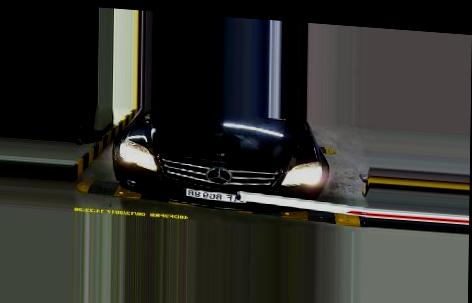License_Plate: (185, 186, 244, 205)
